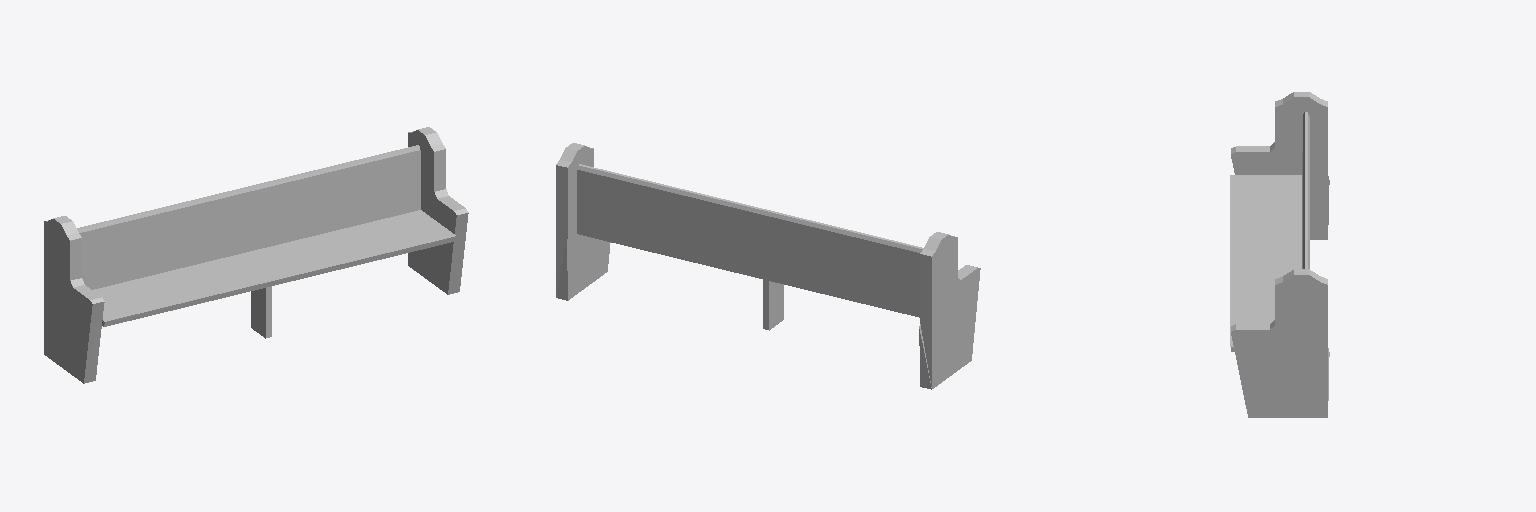
File: Pew.obj
3 views of the same model, side by side, from view 1: azimuth 30°, elevation 25°; view 2: azimuth 150°, elevation 25°; view 3: azimuth 270°, elevation 25° (orthographic).
Visible parts, largest first — view 1: polySurface2; view 2: polySurface2; view 3: polySurface2.
Part boxes in pixels (bbox=[...]): polySurface2: bbox=[44, 127, 468, 383]; polySurface2: bbox=[556, 143, 980, 389]; polySurface2: bbox=[1230, 92, 1329, 417].
Size of the model in its own units: 48.12 by 17.76 by 11.